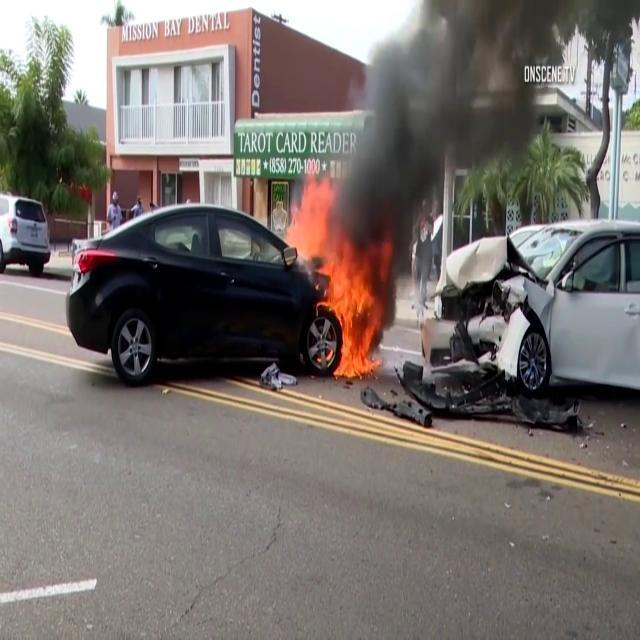Fire: (297, 181, 372, 380)
Smoke: (330, 0, 557, 220)
